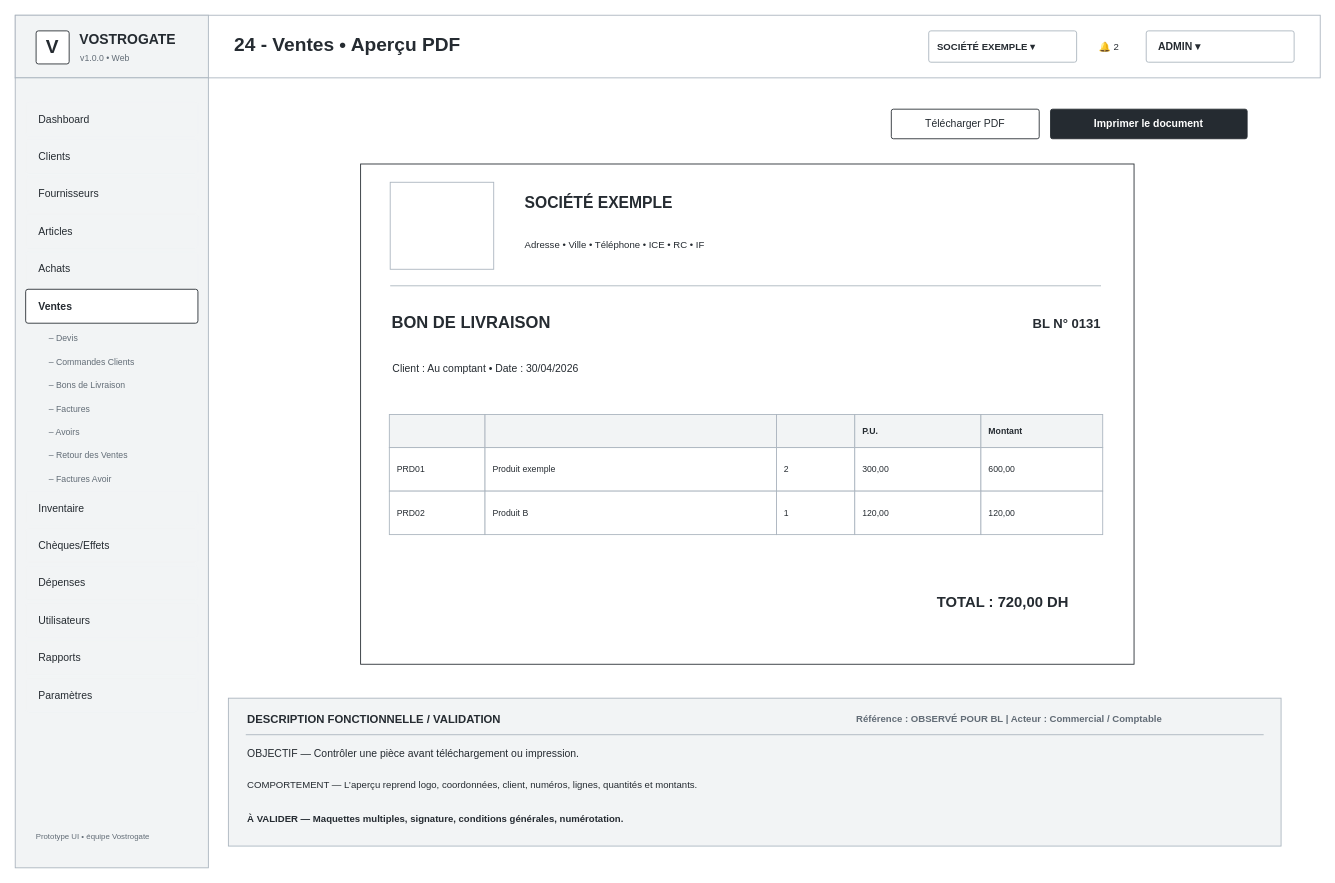
This 1335x883 diagram has some shape labels left out. The shapes that lost their labels are listed below. From the top down, each one's centre as x and y in pixels, then its label:
At (441,225): "[ LOGO ]".
At (436,431): "Réf.".
At (630,431): "Désignation".
At (815,431): "Qté".
